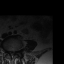CCS_normal: (11, 50, 13, 60)
LFS_severe_stenosis: (15, 49, 16, 55)
LLS_severe_stenosis: (13, 50, 14, 56)
RFS_severe_stenosis: (7, 50, 9, 55)
RLS_stenosis: (9, 50, 11, 56)
